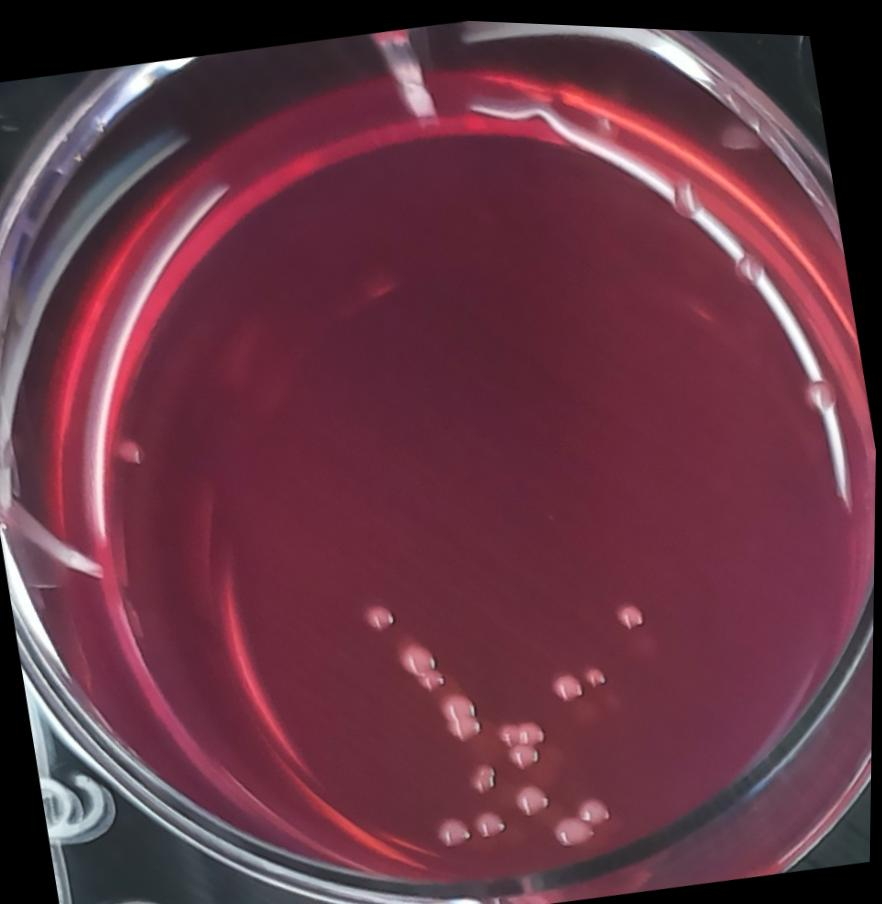bcereus: (392, 628, 450, 696), (498, 707, 558, 768), (437, 682, 489, 747), (548, 804, 602, 850), (429, 802, 478, 850), (508, 771, 560, 816), (357, 591, 406, 636), (609, 587, 655, 633), (570, 782, 618, 826), (545, 659, 590, 704), (466, 751, 503, 796), (474, 800, 513, 840), (586, 657, 616, 688)
